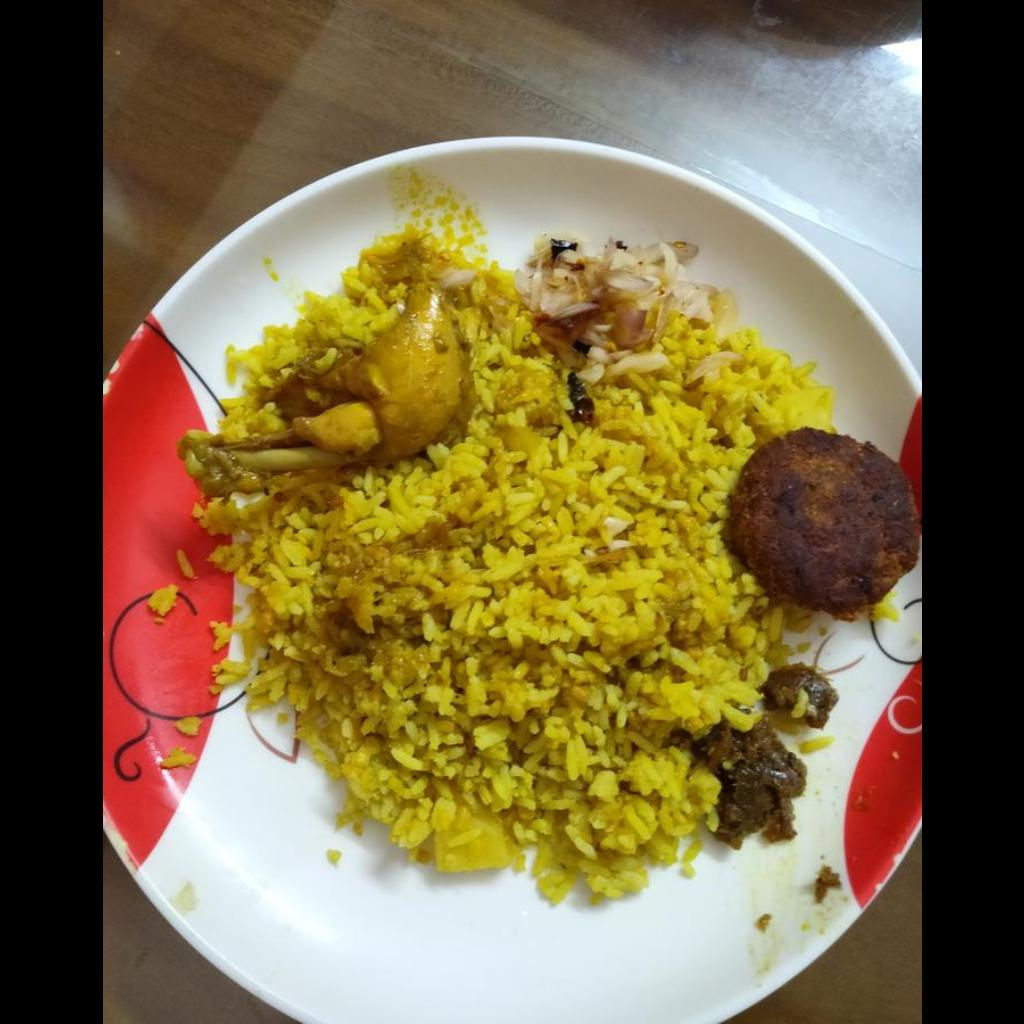chicken: (173, 270, 458, 486)
kabab: (733, 431, 920, 613)
khichuri: (202, 244, 826, 883)
